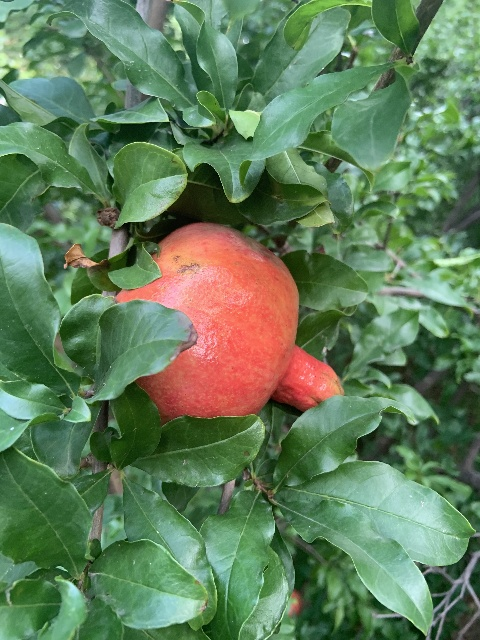ripe: (116, 222, 343, 420)
